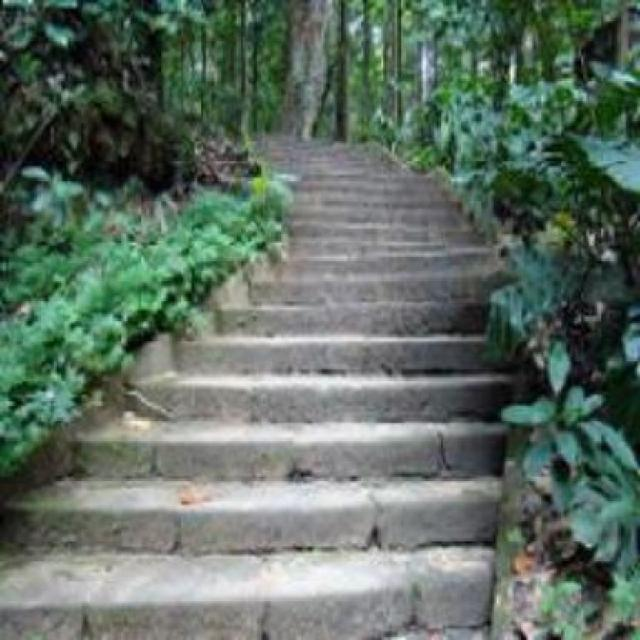stair: (3, 112, 526, 640)
